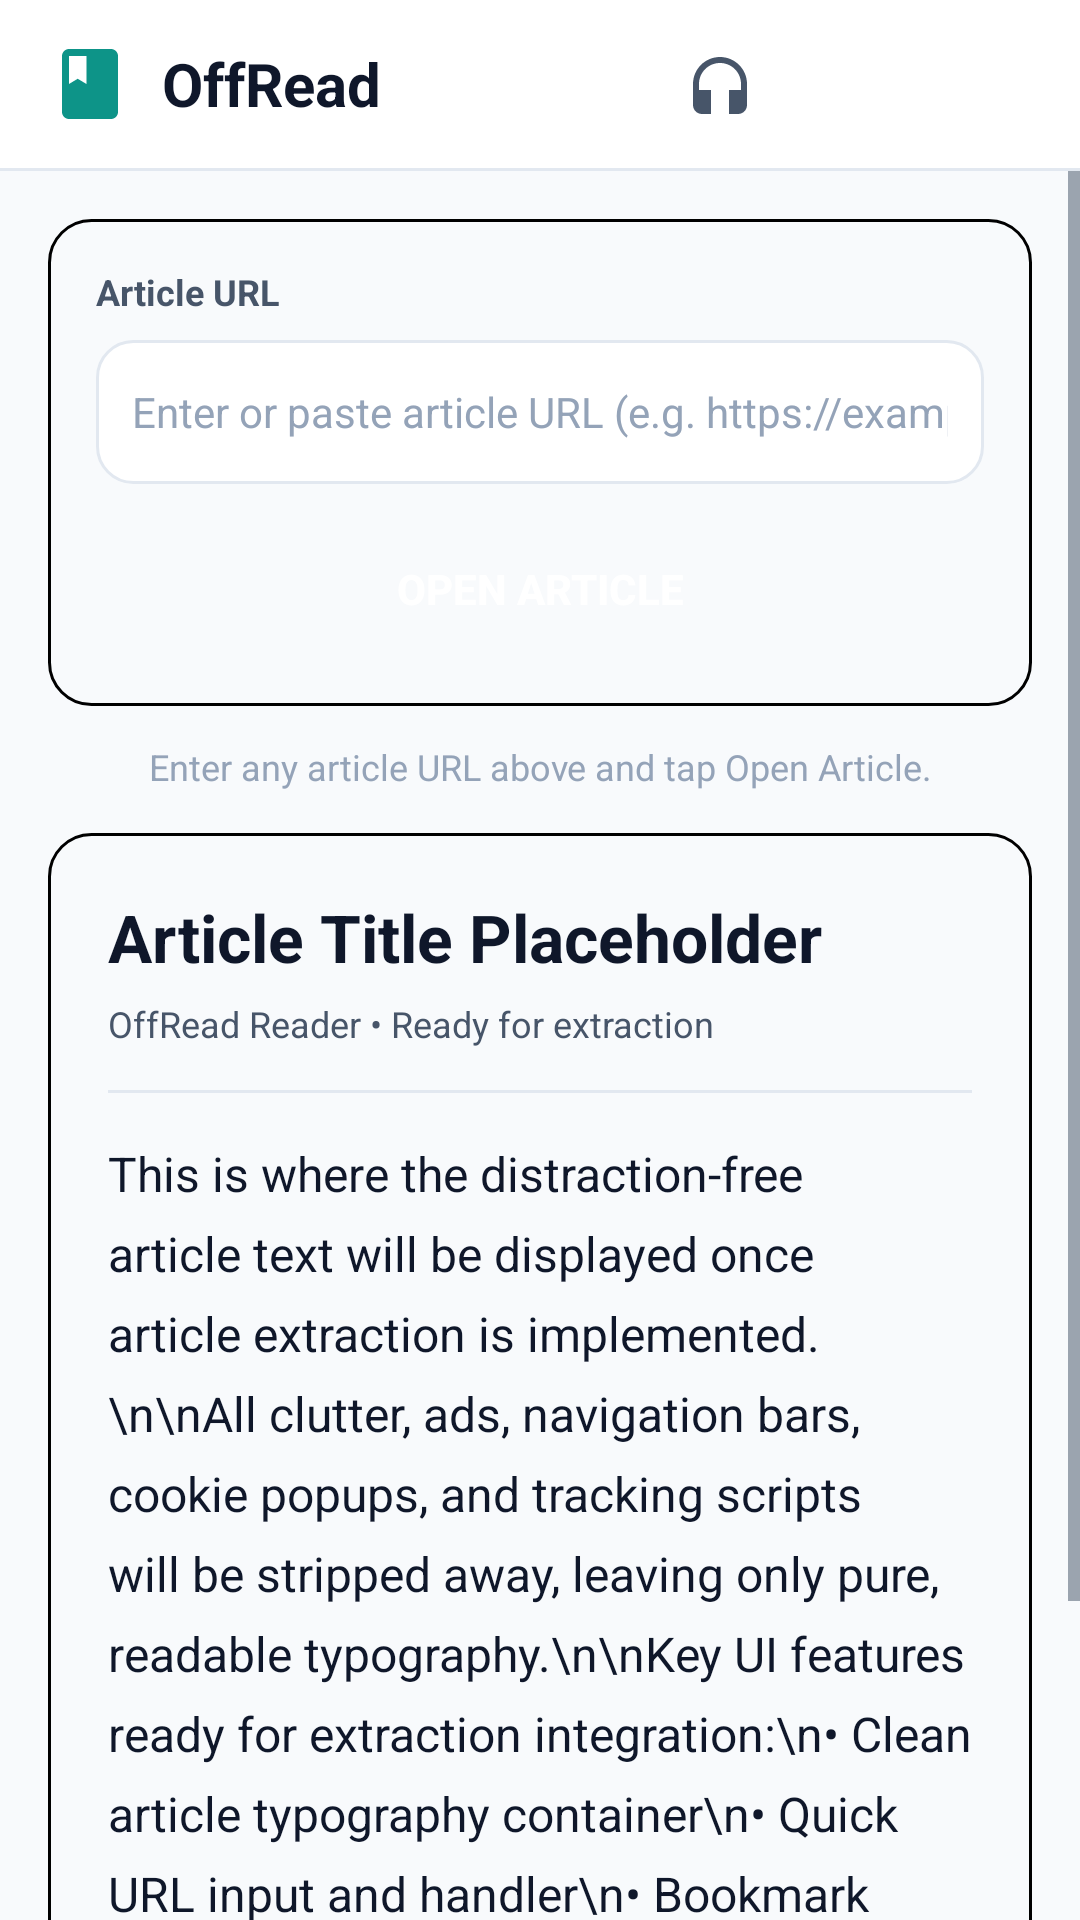

Named icons in this screenshot (1080×1920) and their bounding boxes, (x1,y1,x2,y2):
book: (62,49,118,119)
Listen (TTS): (693,57,747,114)
